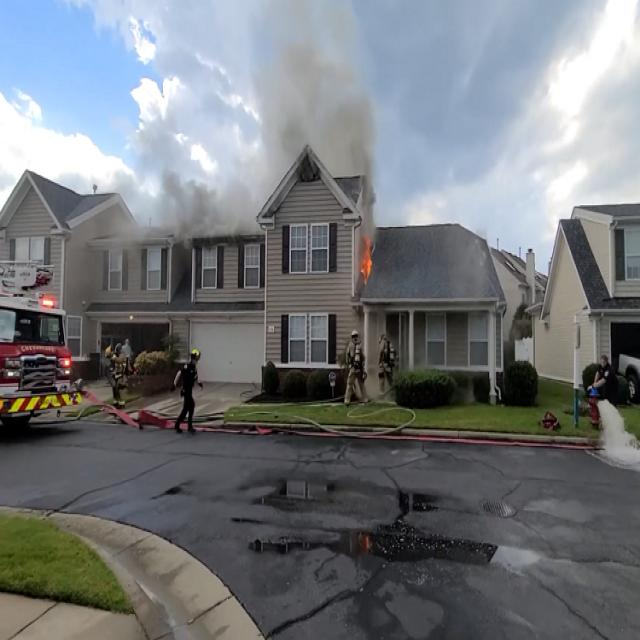smoke: (258, 46, 364, 146), (150, 172, 259, 234)
